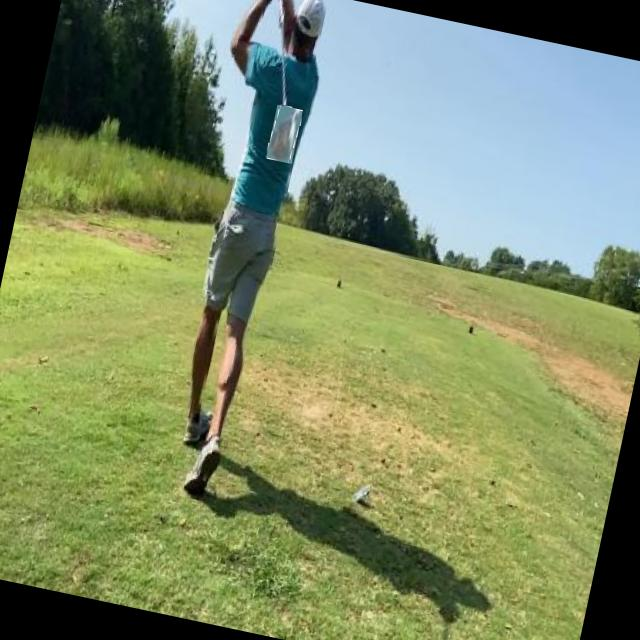club head: (266, 104, 302, 164)
